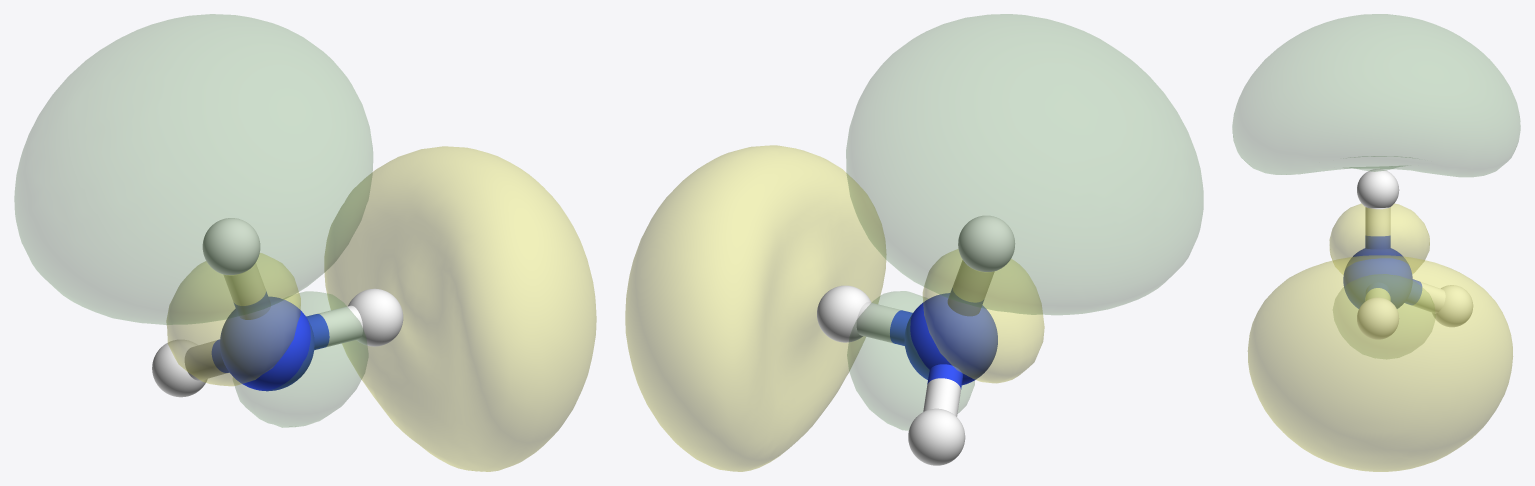
3 views of the same model, side by side, from view 1: azimuth 30°, elevation 25°; view 2: azimuth 150°, elevation 25°; view 3: azimuth 270°, elevation 25° (orthographic). The views are drawn at different scales.
Visible parts, largest first — view 1: surface (×2), atoms, bonds; view 2: surface (×2), atoms, bonds; view 3: surface (×2), atoms, bonds.
Part boxes in pixels (box(x1,y1,x2,y2)): surface (×2): box(14, 14, 596, 471); atoms: box(152, 218, 403, 397); bonds: box(184, 263, 362, 380); surface (×2): box(625, 14, 1203, 471); atoms: box(817, 215, 1015, 465); bonds: box(856, 260, 994, 416); surface (×2): box(1232, 14, 1520, 471); atoms: box(1343, 169, 1473, 339); bonds: box(1365, 207, 1445, 313).
Bounding box in the file's own units: 5.28 × 4.61 × 3.4.
